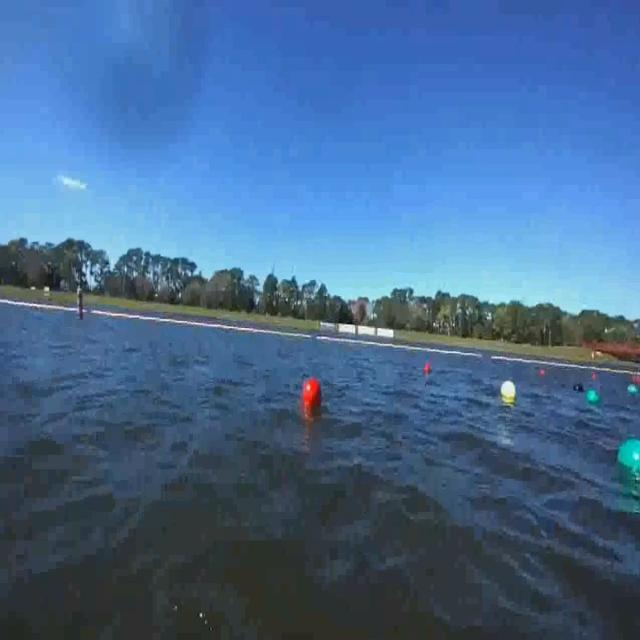black-buoy: (573, 382, 583, 393)
green-buoy: (617, 440, 640, 476), (586, 389, 600, 406), (628, 382, 639, 394)
red-buoy: (302, 378, 320, 407), (424, 362, 432, 374)
yellow-buoy: (500, 378, 516, 399)
